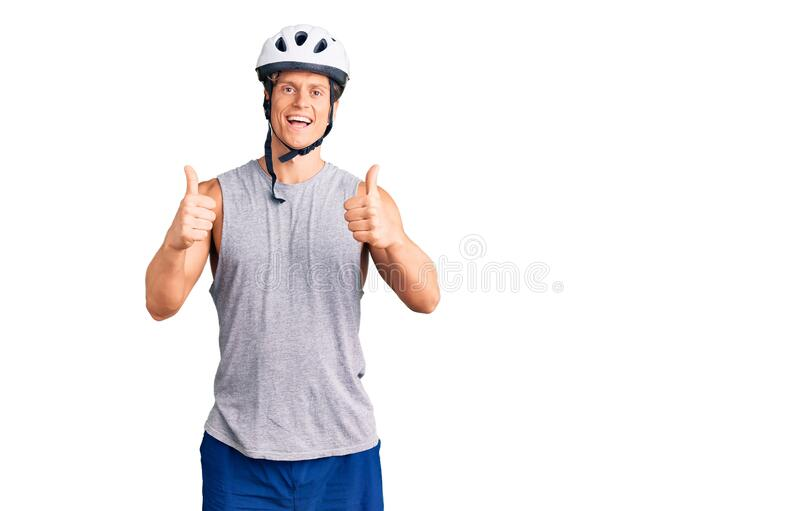helmet: (255, 23, 352, 149)
